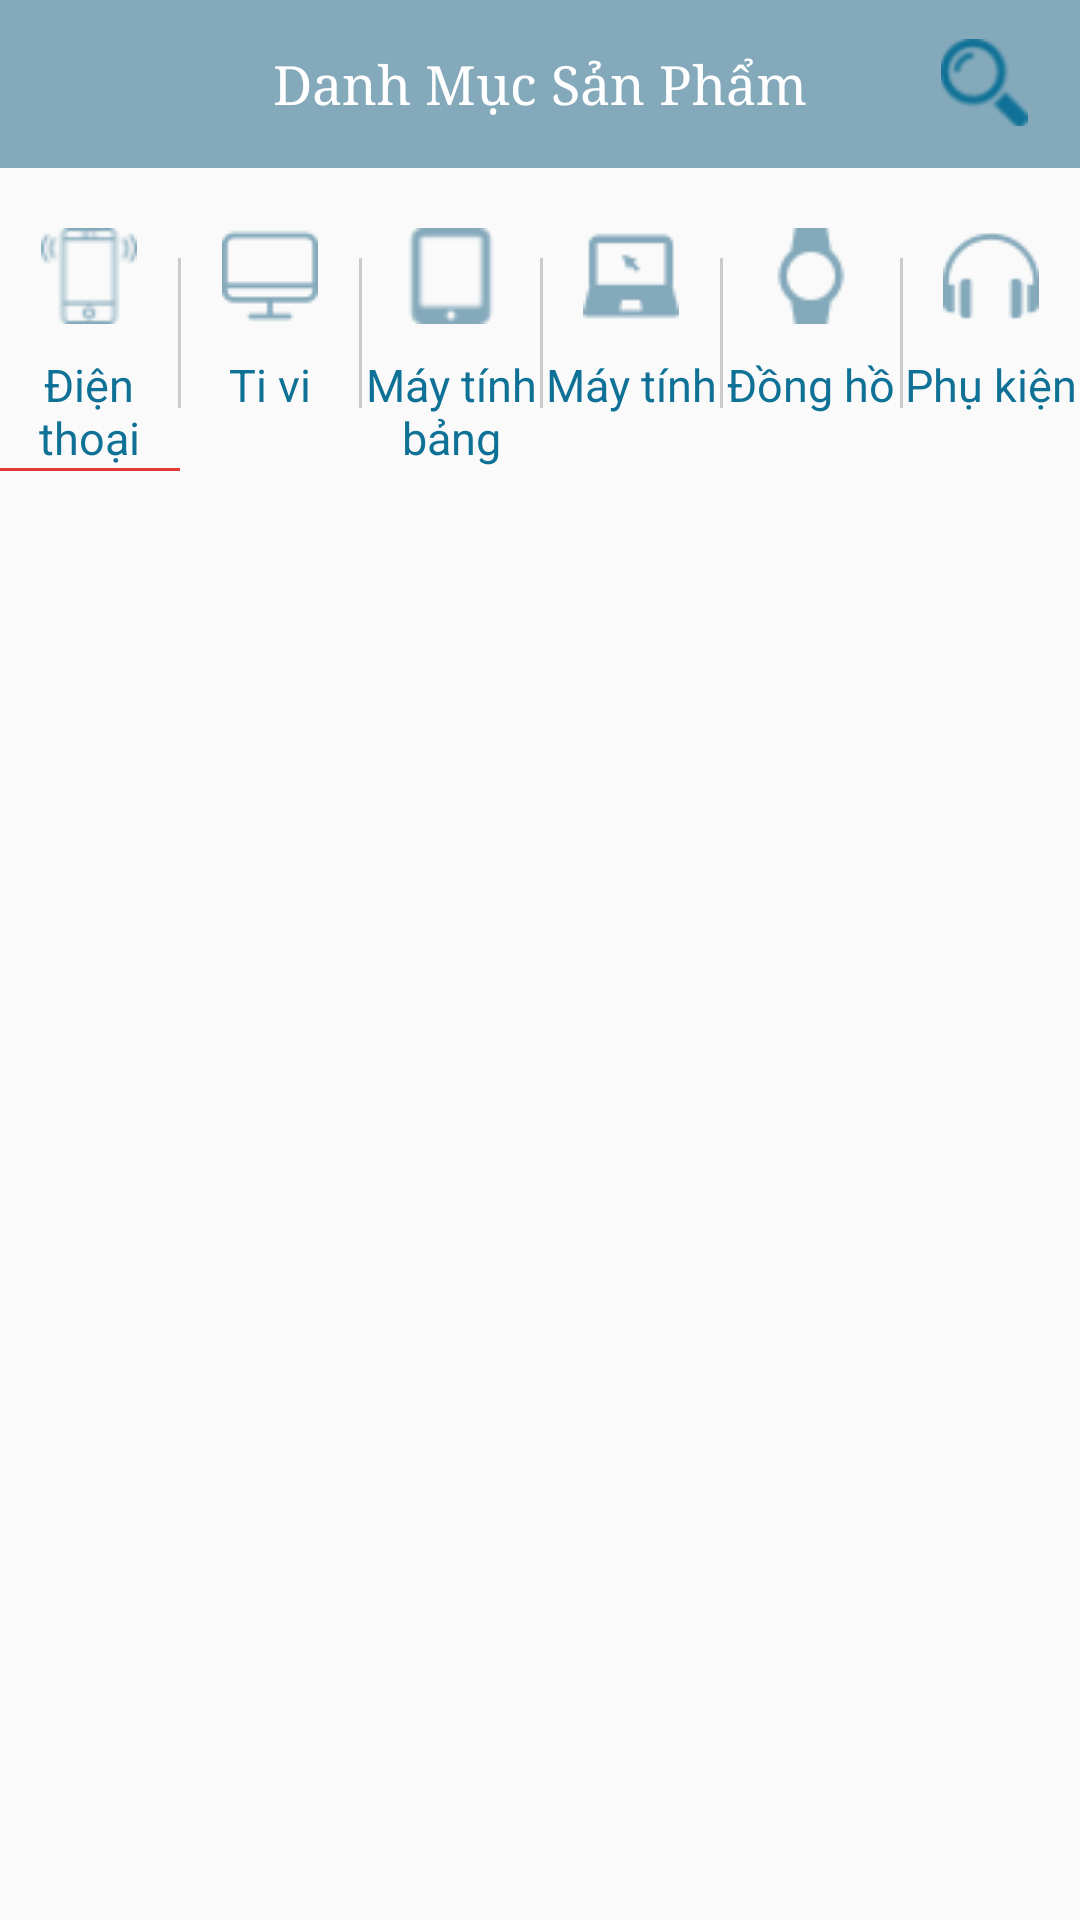

Icon bounding boxes for this 1080x1920 phone screenshot, format [left=x1, top=y1, right=x2, bottom=y2]:
search: [left=941, top=39, right=1028, bottom=126]
